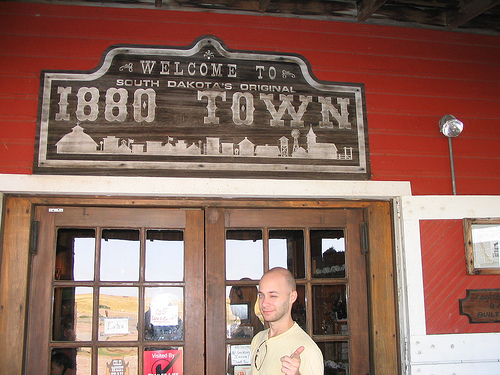without_mask: (257, 273, 298, 333)
